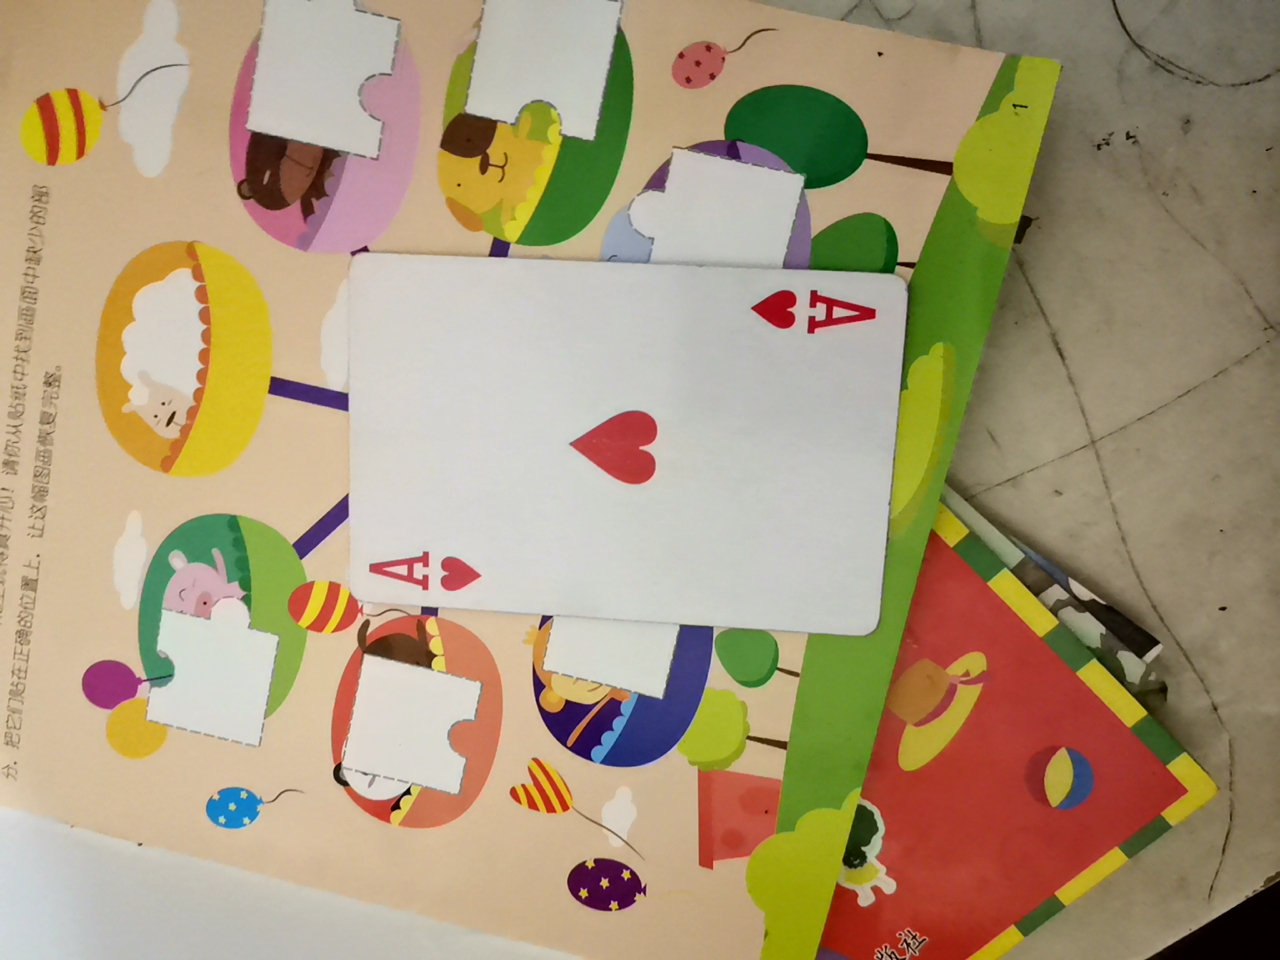hx a: (297, 245, 946, 658)
